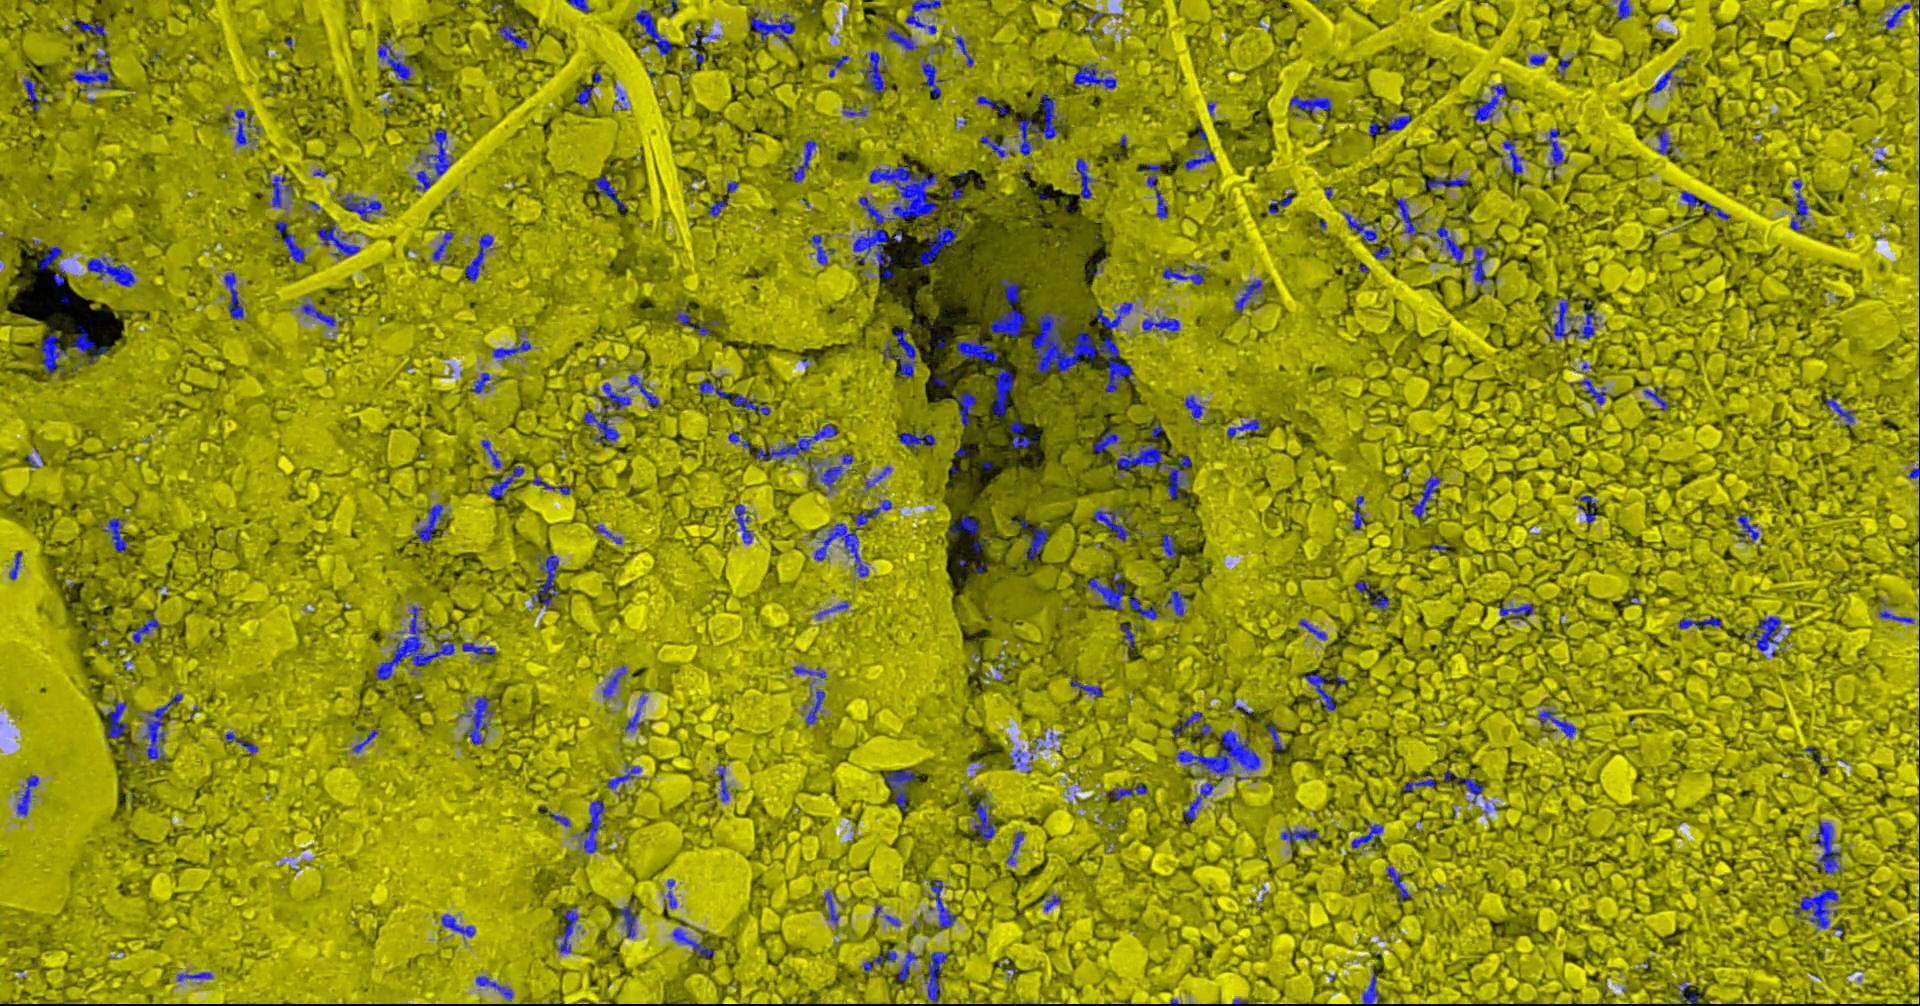ant: (756, 423, 839, 460), (1015, 93, 1063, 155), (813, 523, 869, 575), (583, 382, 630, 441), (142, 694, 182, 761), (983, 276, 1025, 337), (1547, 297, 1597, 339), (918, 220, 960, 265), (1793, 887, 1839, 929), (69, 52, 116, 91), (632, 9, 670, 56), (417, 128, 452, 177), (1137, 163, 1167, 218), (316, 218, 359, 257), (808, 453, 853, 489), (1183, 121, 1215, 170), (69, 324, 107, 365), (377, 41, 411, 85), (1815, 821, 1844, 873), (461, 695, 491, 744), (531, 553, 557, 608), (672, 923, 712, 959), (928, 879, 956, 930), (463, 232, 493, 281), (86, 257, 135, 286), (1469, 83, 1507, 119), (1182, 782, 1217, 823), (1680, 191, 1730, 218), (1091, 506, 1129, 541), (1086, 574, 1124, 610), (1648, 58, 1688, 93), (883, 768, 914, 810), (580, 799, 604, 854), (750, 13, 794, 43), (1411, 475, 1440, 520), (1750, 616, 1782, 655), (956, 333, 997, 363), (850, 499, 891, 528), (488, 465, 524, 498), (787, 138, 815, 182), (339, 194, 383, 221), (904, 0, 940, 33), (893, 328, 916, 379), (924, 951, 946, 1005), (627, 371, 659, 406), (1304, 673, 1335, 710), (990, 370, 1015, 415), (415, 503, 443, 542), (1072, 62, 1115, 88), (1543, 127, 1564, 178), (39, 333, 66, 373), (1435, 225, 1464, 262), (596, 175, 626, 210), (1342, 211, 1377, 241), (709, 180, 738, 216), (1095, 302, 1131, 330), (1537, 710, 1575, 737), (555, 906, 577, 953), (1354, 579, 1388, 608), (1789, 179, 1808, 231), (1289, 94, 1331, 117), (861, 51, 884, 91), (1076, 158, 1098, 198), (1823, 398, 1854, 428), (1576, 377, 1609, 405), (105, 700, 130, 738), (973, 798, 994, 840), (223, 272, 243, 319), (1234, 279, 1262, 311), (17, 775, 38, 815), (921, 61, 943, 99), (102, 518, 127, 553), (1385, 866, 1411, 901), (1467, 245, 1488, 285), (1351, 822, 1383, 848), (623, 694, 646, 730), (475, 976, 512, 998), (607, 763, 641, 788), (1161, 265, 1204, 285), (731, 394, 770, 415), (497, 22, 527, 48), (809, 234, 834, 265), (731, 503, 752, 542), (22, 77, 46, 111), (602, 666, 626, 699), (301, 304, 335, 326), (439, 913, 474, 936), (1396, 198, 1416, 236), (1025, 526, 1048, 559), (863, 948, 897, 970), (898, 431, 935, 451), (1884, 3, 1911, 30), (1105, 782, 1147, 800), (1128, 593, 1157, 619), (1454, 777, 1483, 803), (979, 133, 1010, 158), (491, 340, 530, 359), (531, 475, 569, 494), (225, 730, 257, 753), (897, 949, 919, 981), (1361, 967, 1380, 1005), (70, 19, 105, 39), (1502, 138, 1523, 174), (132, 617, 161, 641), (1172, 711, 1201, 735), (883, 29, 917, 50), (955, 391, 975, 426), (270, 175, 292, 207), (805, 688, 824, 724), (1280, 828, 1318, 846), (617, 904, 637, 937), (430, 231, 453, 260), (234, 108, 251, 145), (1091, 431, 1119, 453), (350, 729, 378, 752), (282, 232, 303, 262), (1736, 512, 1757, 541), (815, 600, 848, 619), (823, 890, 839, 929), (1010, 418, 1030, 448), (1142, 316, 1178, 333), (863, 466, 891, 488), (1225, 419, 1258, 437), (1498, 603, 1534, 620), (1006, 831, 1023, 864), (954, 36, 973, 66), (977, 95, 1007, 114), (698, 379, 729, 398), (1298, 619, 1326, 639), (1069, 680, 1101, 697), (1265, 723, 1283, 754), (947, 516, 977, 535), (38, 246, 62, 269), (1643, 389, 1669, 410), (1423, 177, 1470, 188), (481, 439, 500, 467), (1164, 589, 1183, 616), (594, 525, 622, 542), (1385, 114, 1411, 133), (1183, 395, 1203, 420), (1119, 622, 1135, 652), (461, 641, 495, 655), (828, 55, 848, 77), (1679, 982, 1699, 1005), (1578, 495, 1595, 523), (792, 666, 825, 680), (413, 170, 434, 191), (1677, 617, 1721, 627), (728, 431, 750, 450), (1878, 610, 1912, 622), (716, 763, 728, 801), (1656, 128, 1672, 154), (8, 550, 22, 579), (1269, 196, 1291, 213), (1161, 531, 1175, 559), (674, 307, 695, 326), (1402, 779, 1435, 790), (663, 879, 676, 908), (546, 810, 570, 826), (472, 372, 490, 392), (177, 970, 212, 981), (695, 29, 719, 43), (1013, 749, 1029, 771), (1352, 495, 1363, 527), (1615, 0, 1630, 19), (1041, 895, 1060, 911), (577, 85, 590, 104), (1371, 245, 1390, 259), (568, 0, 590, 11), (1194, 723, 1211, 737), (52, 264, 63, 286), (971, 537, 987, 553), (1557, 57, 1570, 75), (1368, 119, 1382, 135), (949, 185, 964, 199), (274, 218, 287, 232), (842, 108, 865, 116), (1529, 55, 1545, 65)
